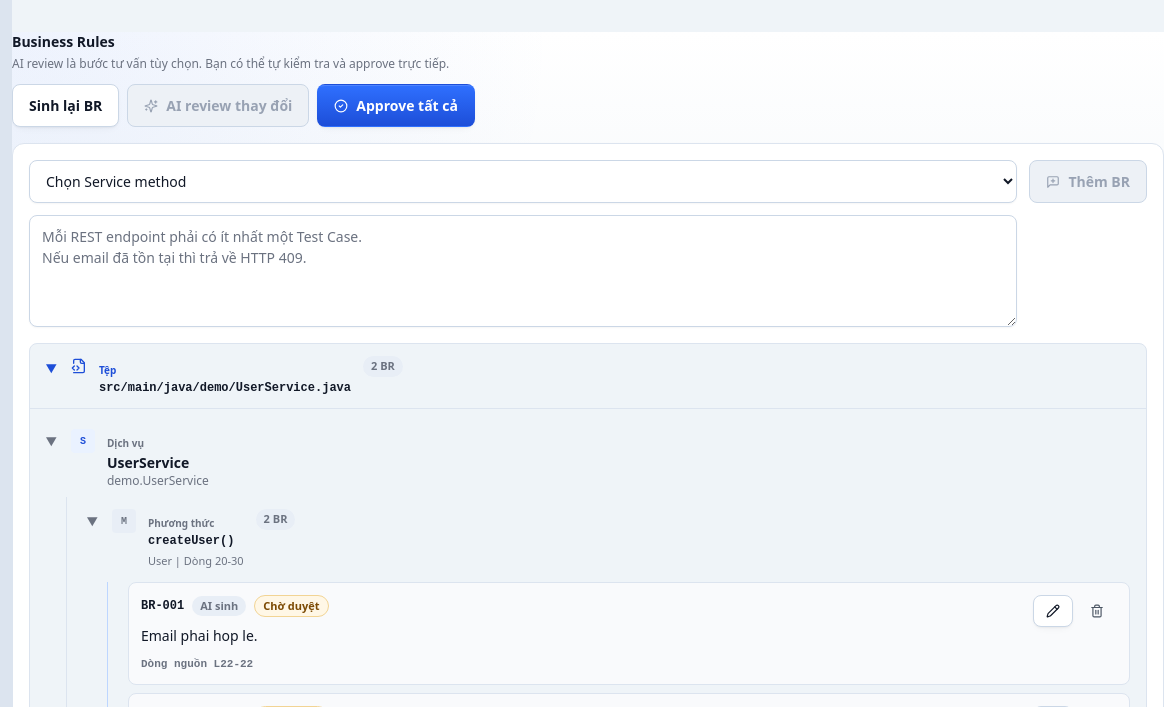
Test: BusinessRulesPanel › groups TRUE and FALSE outcomes under one covered source decision
The image size is (1164, 707).
Select "src/main/java/demo/UserService.java | UserService.createUser (L20)" in the dropdown at point(523, 182), box [29,160,1017,203]
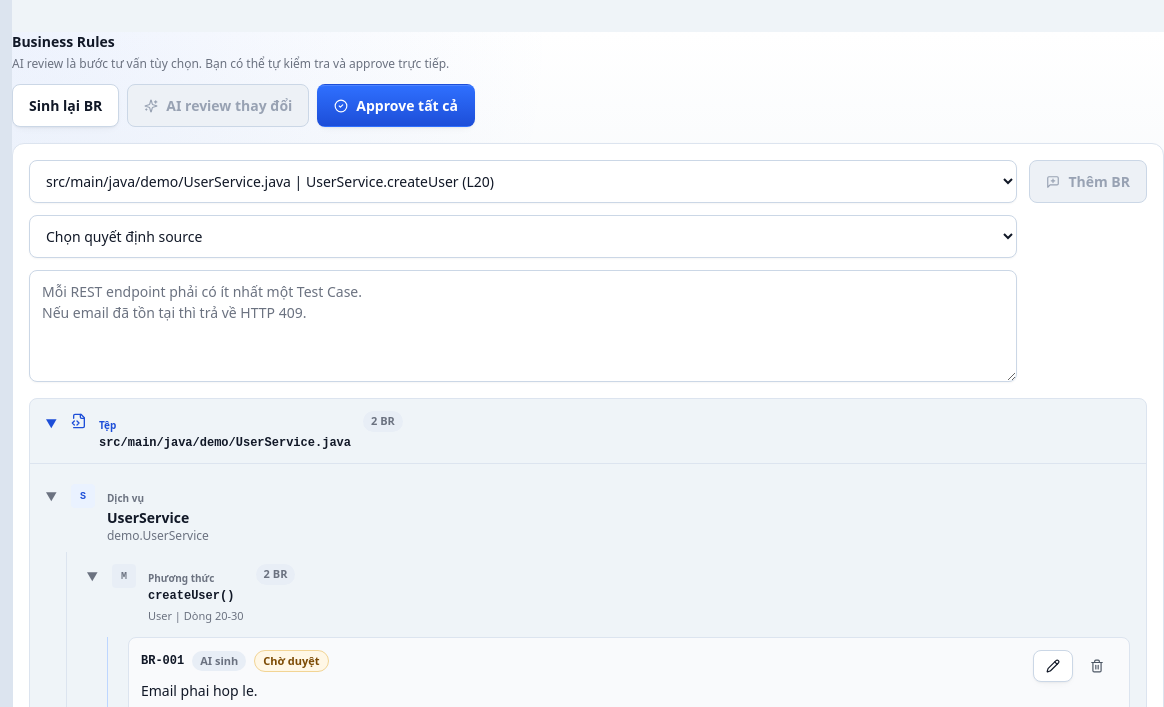
Expected: the button "Approve tất cả" is enabled, [317,84,475,127]
Result: the number of dropdowns is 2 at [29,160,1017,203]; [29,215,1017,258]
